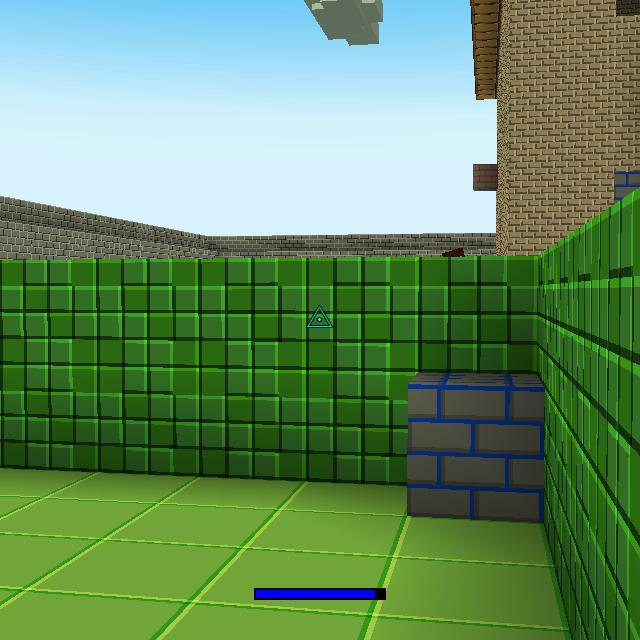enemy: (440, 247, 467, 258)
